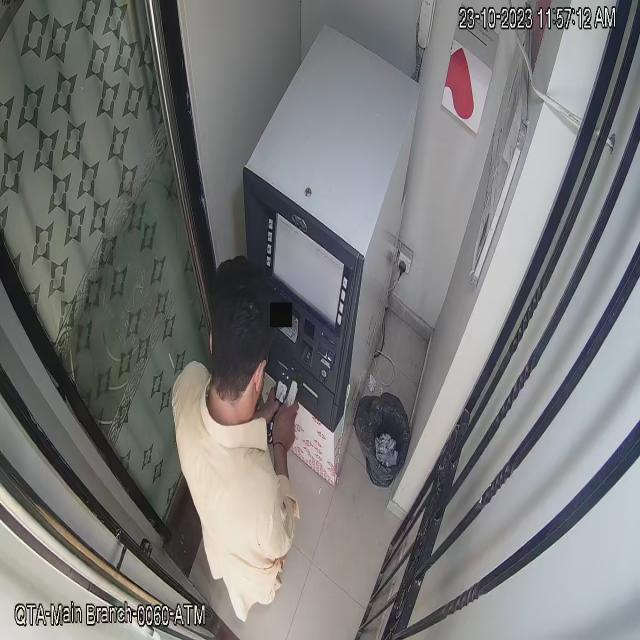note: (274, 374, 305, 411)
